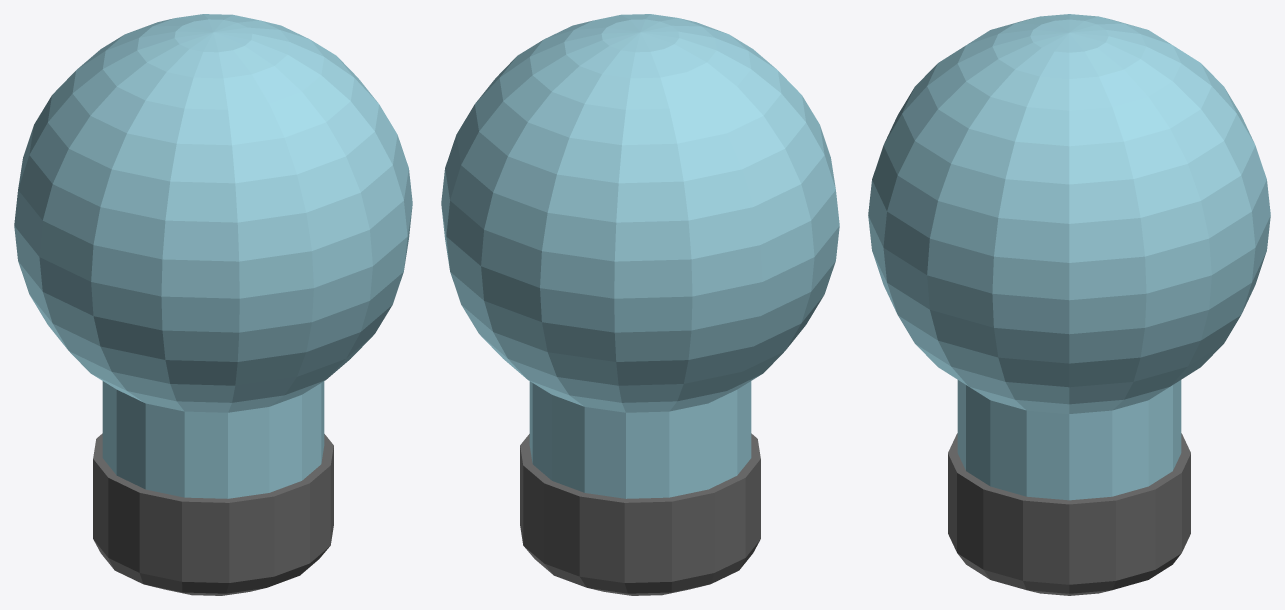
Rendered from LightBulb.fbx.
The picture shows the model from 3 angles, left to right: view 1: azimuth 30°, elevation 25°; view 2: azimuth 150°, elevation 25°; view 3: azimuth 270°, elevation 25°; orthographic projection.
Parts seen in each view (by area): view 1: Bulb; view 2: Bulb; view 3: Bulb.
Boxes of the visible parts, <box> form: Bulb: <box>14,14,412,595</box>; Bulb: <box>441,14,839,595</box>; Bulb: <box>868,14,1270,595</box>.
Bounding box in the file's own units: 200 × 299 × 200.
